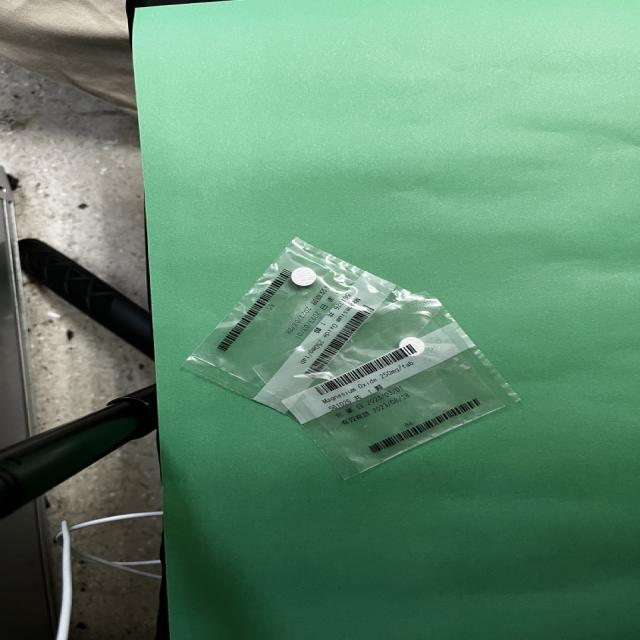Other Objects: (184, 238, 519, 478)
